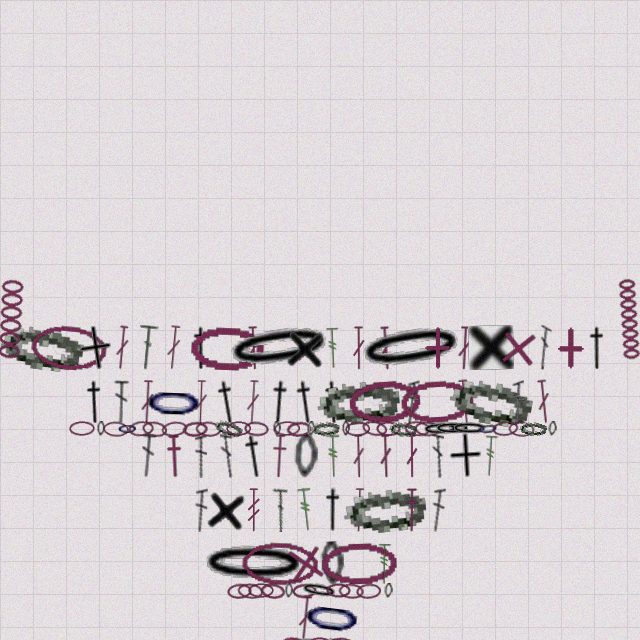chain: (354, 318, 469, 378), (222, 318, 337, 377), (199, 541, 309, 587), (447, 374, 535, 430), (0, 321, 85, 374), (342, 484, 428, 536), (316, 377, 401, 427), (29, 322, 109, 373), (399, 378, 476, 426), (347, 378, 423, 426), (241, 541, 318, 587), (320, 541, 397, 587), (189, 325, 264, 371), (300, 592, 365, 640), (143, 379, 205, 425), (320, 541, 345, 586), (294, 434, 318, 478), (300, 580, 338, 601), (213, 418, 244, 439), (422, 421, 459, 437), (434, 421, 471, 436), (451, 421, 488, 436), (361, 419, 388, 438), (311, 420, 340, 437), (237, 582, 264, 600), (141, 420, 168, 438), (161, 420, 188, 438), (260, 582, 286, 600), (404, 420, 431, 437), (492, 420, 519, 437), (389, 421, 417, 437), (128, 420, 154, 437), (195, 421, 222, 437), (414, 421, 441, 437), (508, 421, 535, 437), (519, 421, 547, 436), (338, 583, 364, 599), (103, 421, 129, 437), (182, 421, 208, 437), (286, 421, 312, 437), (227, 583, 252, 599), (292, 583, 317, 599), (356, 583, 381, 599), (244, 421, 269, 437), (345, 421, 370, 437), (248, 583, 274, 598), (69, 421, 95, 436), (274, 421, 300, 436), (326, 583, 351, 598), (226, 421, 251, 436), (376, 421, 401, 436), (477, 420, 499, 437), (117, 421, 138, 436), (315, 635, 345, 640), (384, 583, 393, 598), (548, 421, 557, 436), (285, 583, 293, 598), (97, 421, 105, 436), (273, 421, 281, 436), (307, 421, 315, 436), (342, 421, 350, 436), (329, 636, 356, 640), (280, 636, 306, 640)
double: (136, 325, 159, 370), (296, 595, 315, 640), (455, 379, 474, 424), (534, 379, 553, 424), (164, 325, 183, 370), (139, 433, 157, 478), (113, 325, 131, 370), (377, 326, 395, 370), (271, 488, 288, 532), (139, 380, 156, 424), (245, 326, 262, 370), (456, 326, 473, 370), (430, 487, 446, 532), (536, 325, 552, 370), (351, 488, 367, 532), (193, 380, 209, 424), (245, 380, 261, 424), (404, 380, 420, 424), (351, 434, 366, 478), (378, 434, 393, 478), (114, 380, 129, 424), (351, 326, 366, 370), (194, 488, 208, 532), (220, 434, 234, 478), (405, 434, 419, 478), (195, 434, 207, 478), (432, 434, 444, 478), (512, 380, 524, 424)
enseble_chain: (0, 279, 26, 361), (616, 278, 640, 362)
half_double: (239, 433, 269, 479), (212, 379, 242, 425), (265, 379, 294, 425), (291, 379, 320, 425), (320, 487, 346, 532), (320, 380, 346, 424), (188, 326, 214, 370), (584, 326, 610, 370), (82, 380, 107, 424), (270, 434, 289, 478), (165, 434, 183, 478), (403, 488, 420, 532)
single: (280, 538, 331, 589), (494, 324, 542, 372), (204, 486, 249, 534), (468, 325, 514, 370), (284, 325, 327, 371), (416, 326, 460, 370), (548, 326, 592, 370), (75, 324, 115, 372), (447, 433, 483, 478)
treble: (296, 487, 315, 532), (482, 434, 499, 478), (325, 434, 341, 478), (325, 326, 341, 370), (377, 542, 392, 586), (246, 488, 261, 532)
